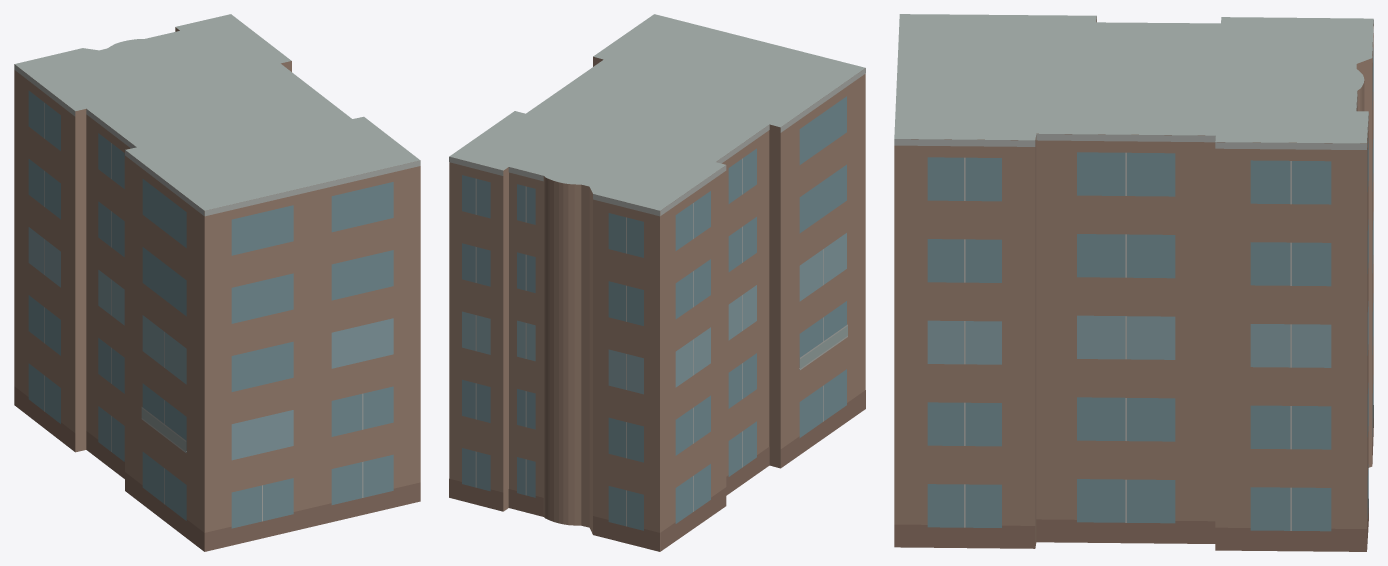
File: survey-upis-32907308.glb
3 views of the same model, side by side, from view 1: azimuth 30°, elevation 25°; view 2: azimuth 150°, elevation 25°; view 3: azimuth 270°, elevation 25° (orthographic). The views are drawn at different scales.
Parts seen in each view (by area): view 1: survey-upis-32907308.tmp; view 2: survey-upis-32907308.tmp; view 3: survey-upis-32907308.tmp.
Boxes of the visible parts, <box> form: survey-upis-32907308.tmp: <box>14,14,420,551</box>; survey-upis-32907308.tmp: <box>449,14,865,551</box>; survey-upis-32907308.tmp: <box>894,14,1373,551</box>.
Bounding box in the file's own units: 10.11 × 14.85 × 15.81.
